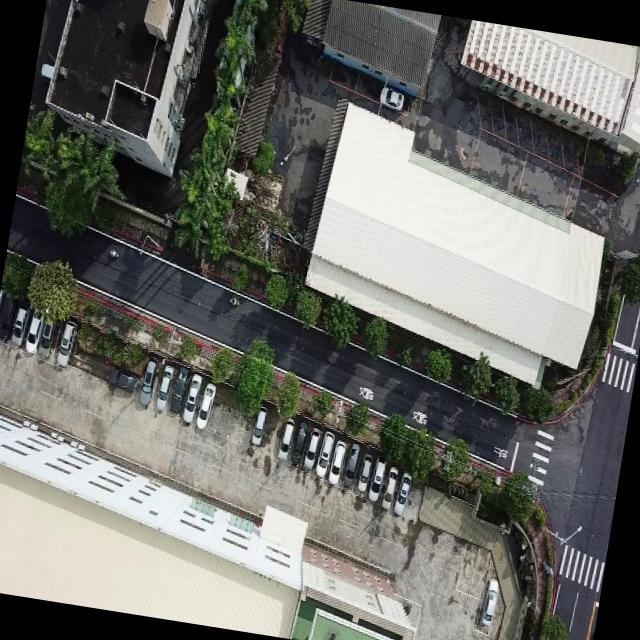bike: (228, 294, 242, 308), (106, 248, 120, 261)
car: (180, 373, 202, 427), (480, 575, 502, 628), (102, 365, 138, 396), (54, 318, 76, 368), (195, 381, 217, 431), (170, 363, 190, 418), (137, 357, 158, 408), (153, 362, 174, 412), (327, 438, 348, 486), (276, 415, 296, 464), (289, 423, 309, 471), (368, 456, 388, 503), (354, 452, 374, 499), (394, 470, 414, 517), (24, 308, 44, 354), (302, 426, 322, 472), (250, 405, 270, 449), (0, 294, 17, 345), (342, 443, 361, 488), (10, 304, 29, 348), (378, 83, 406, 112), (38, 314, 56, 359), (317, 431, 336, 468)
